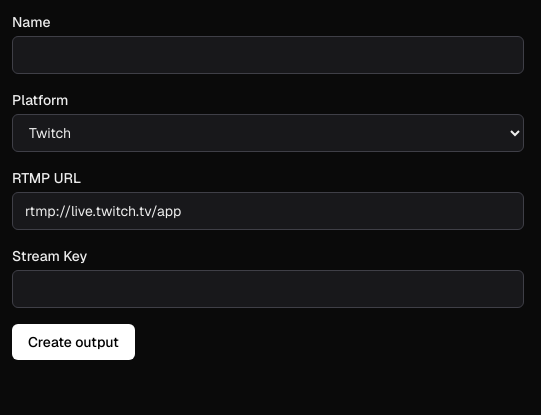
Scenario: CreateOutputForm › shows error on API failure
Step 1. Type "Too Many" into the field labelled "Name" → (268, 55), box [12, 36, 524, 74]
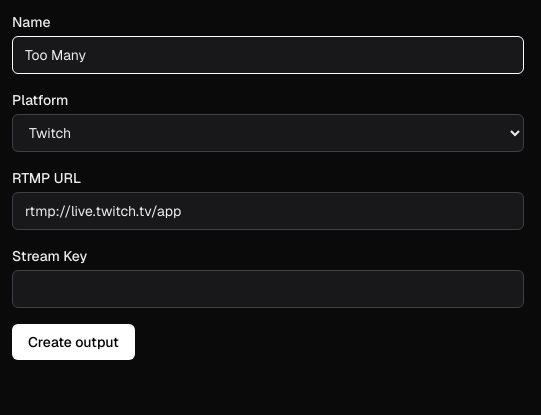
Step 2. Select "Custom" in the dropdown labelled "Platform" → (268, 133), box [12, 114, 524, 152]
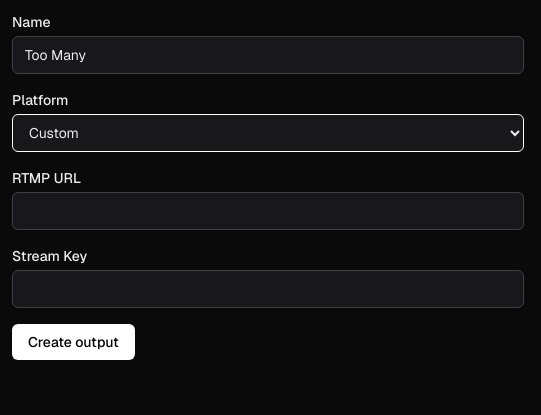
Step 3. Type "rtmp://example.com/live" into the field labelled "RTMP URL" → (268, 211), box [12, 192, 524, 230]
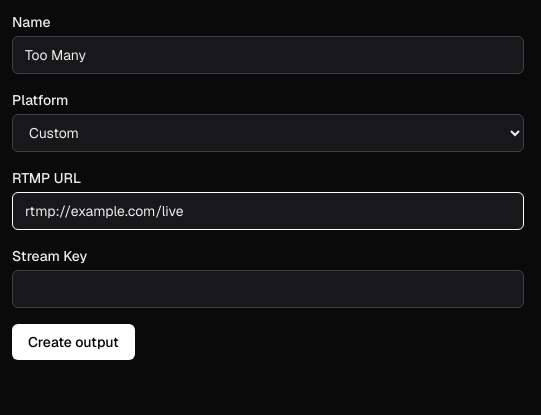
Step 4. Type "key123" into the password field labelled "Stream Key" → (268, 289), box [12, 270, 524, 308]
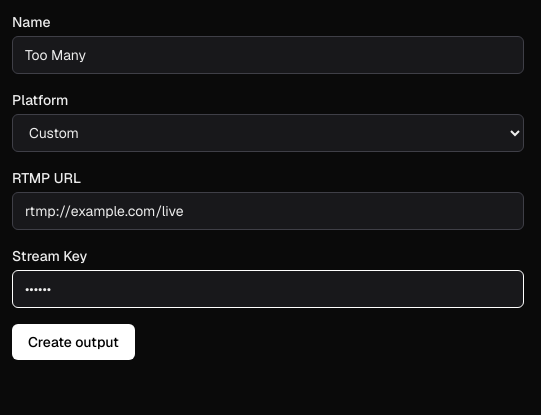
Step 5. Click the button "Create output" → (73, 342), box [12, 324, 135, 360]
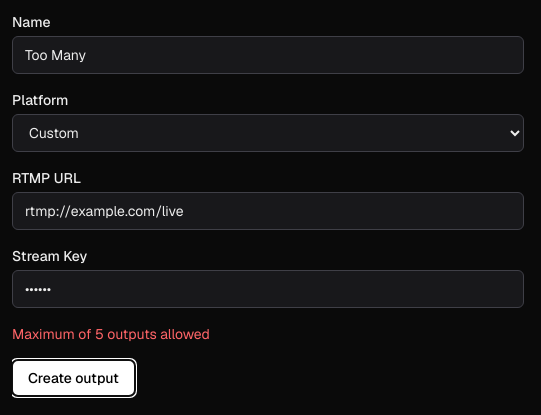
Now the text "Maximum of 5 outputs allowed" is shown, box [12, 325, 210, 343]
